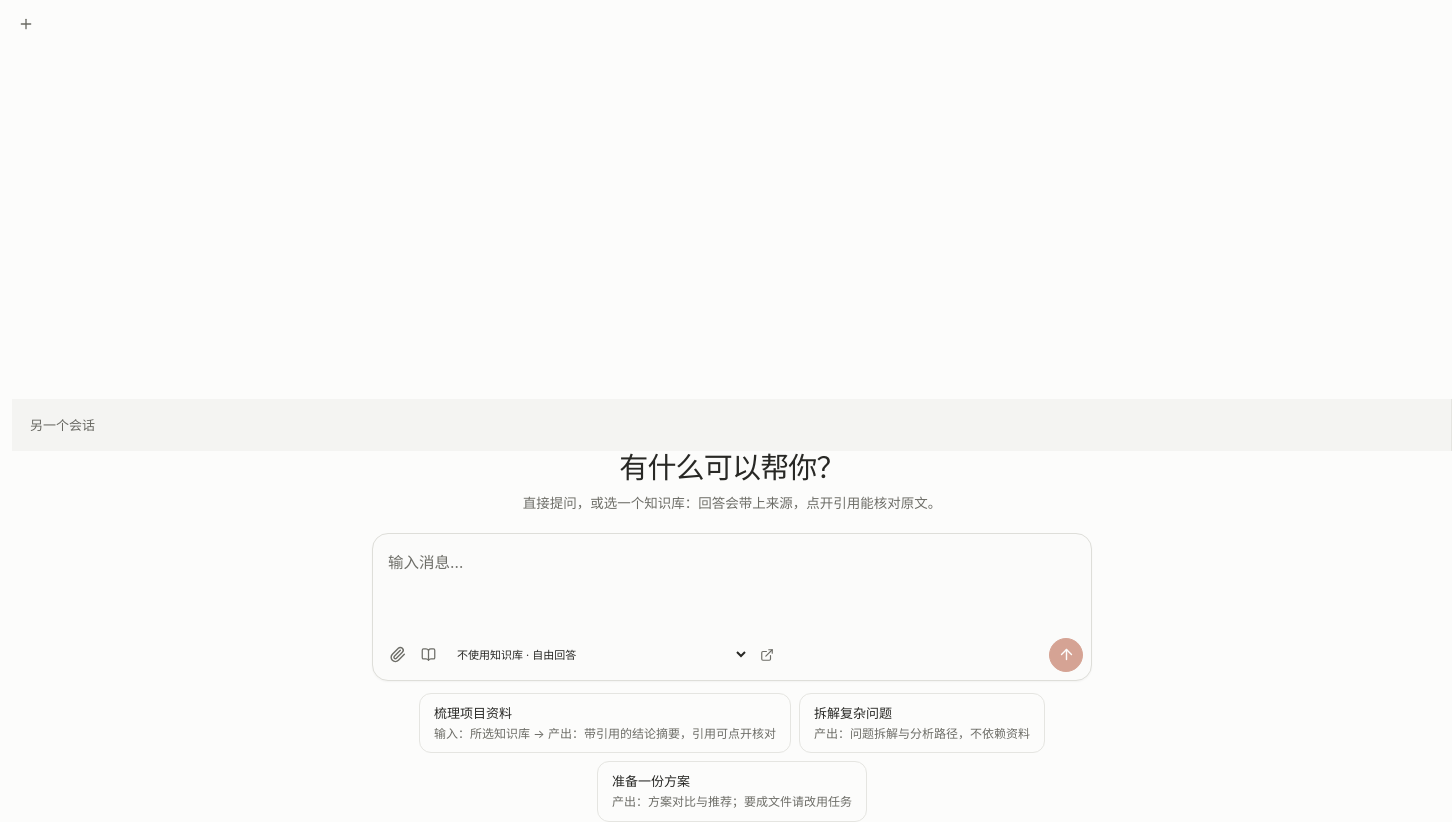
Scenario: Chat identity boundary › still asks the question when the reader opens another session mid-create
Type "这句话去哪了？" into the text box named "问题". click: (732, 586)
box: [377, 538, 1087, 634]
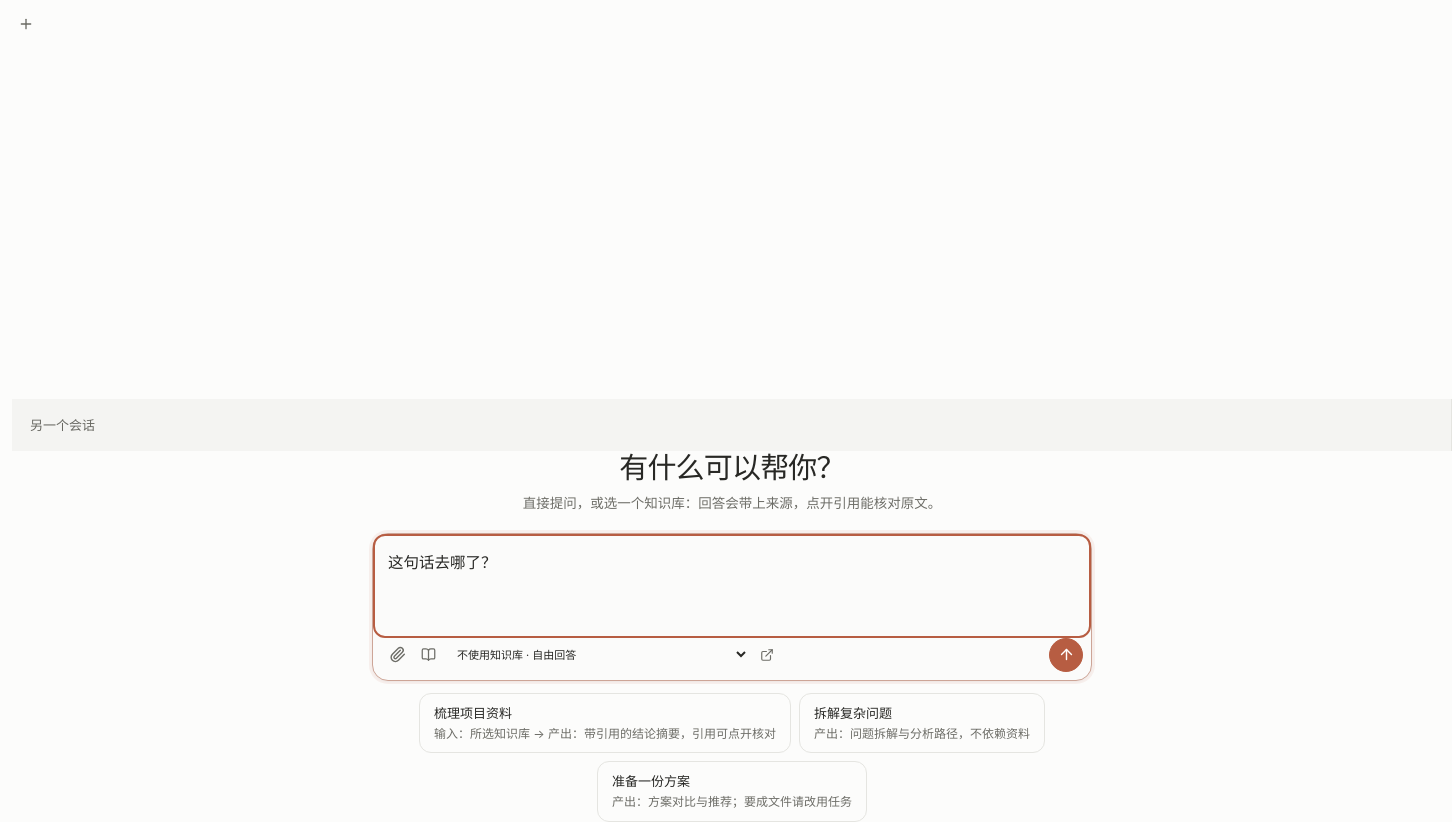
Click the button named "发送问题". click: click(1066, 655)
box: [1049, 638, 1083, 672]
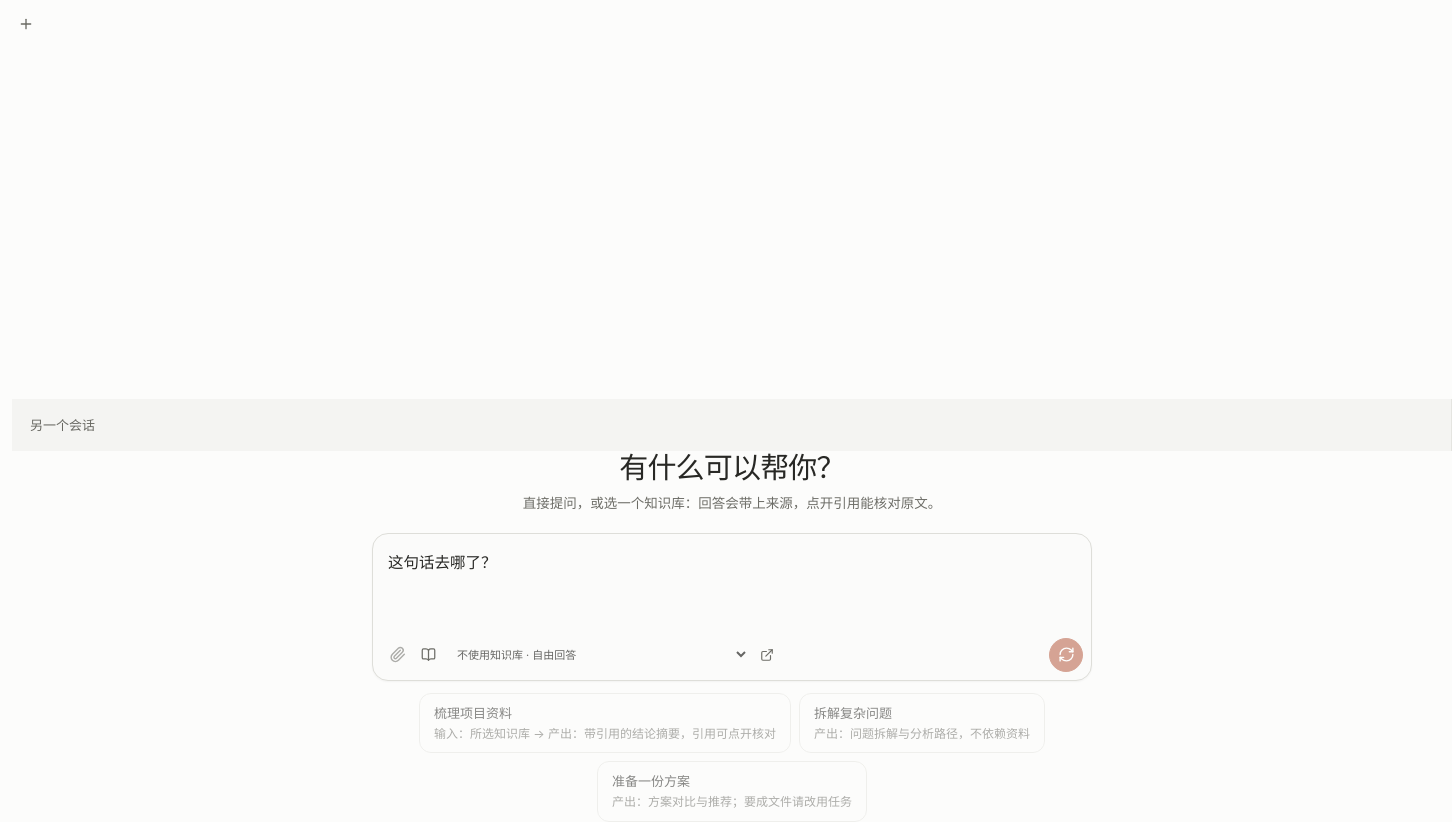
// The sidebar is right there for the whole of the round trip.
Click the link "另一个会话". click: click(62, 425)
box: [30, 417, 95, 433]
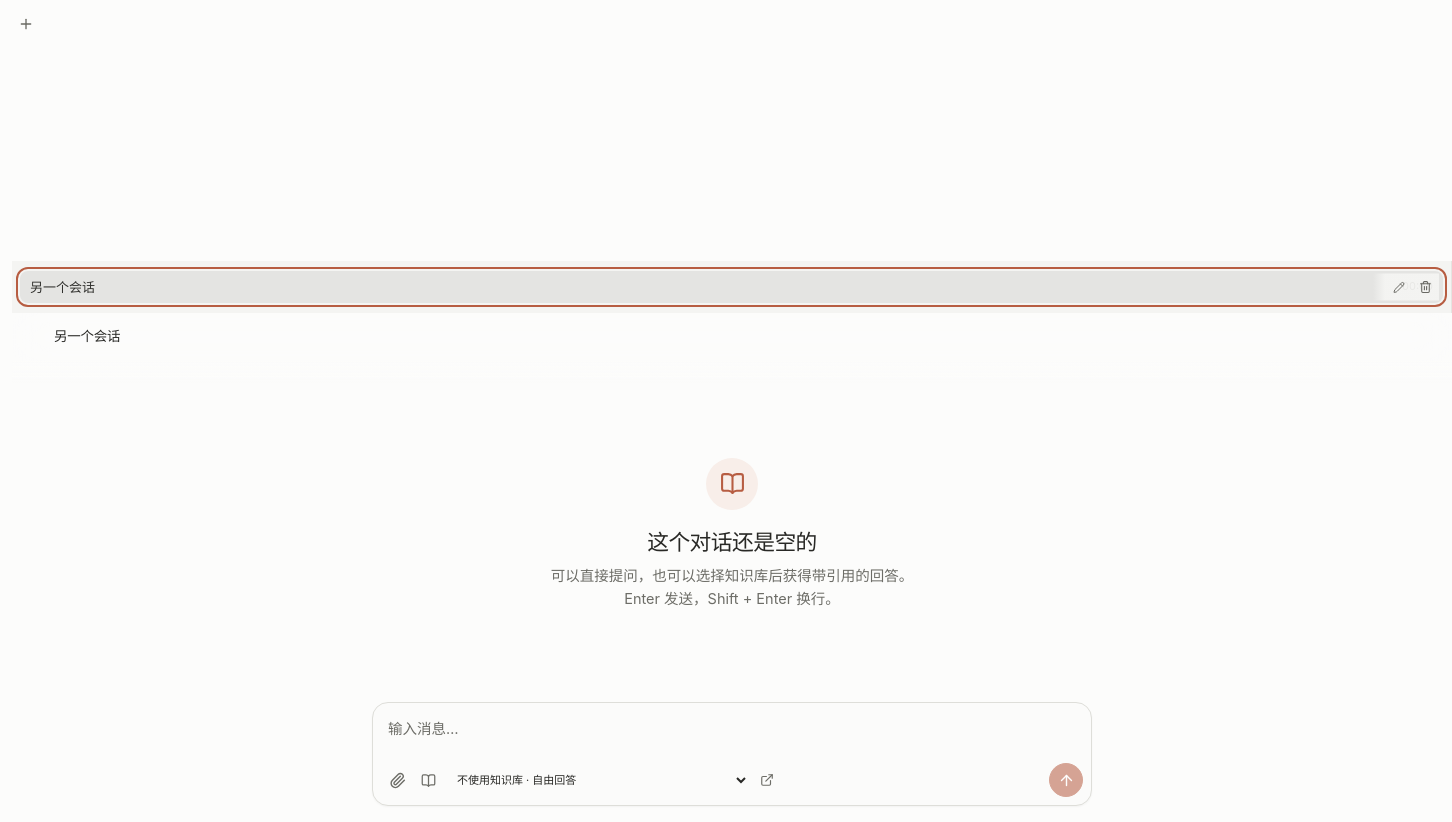
Now the heading "另一个会话" is shown, box [54, 326, 120, 348]
